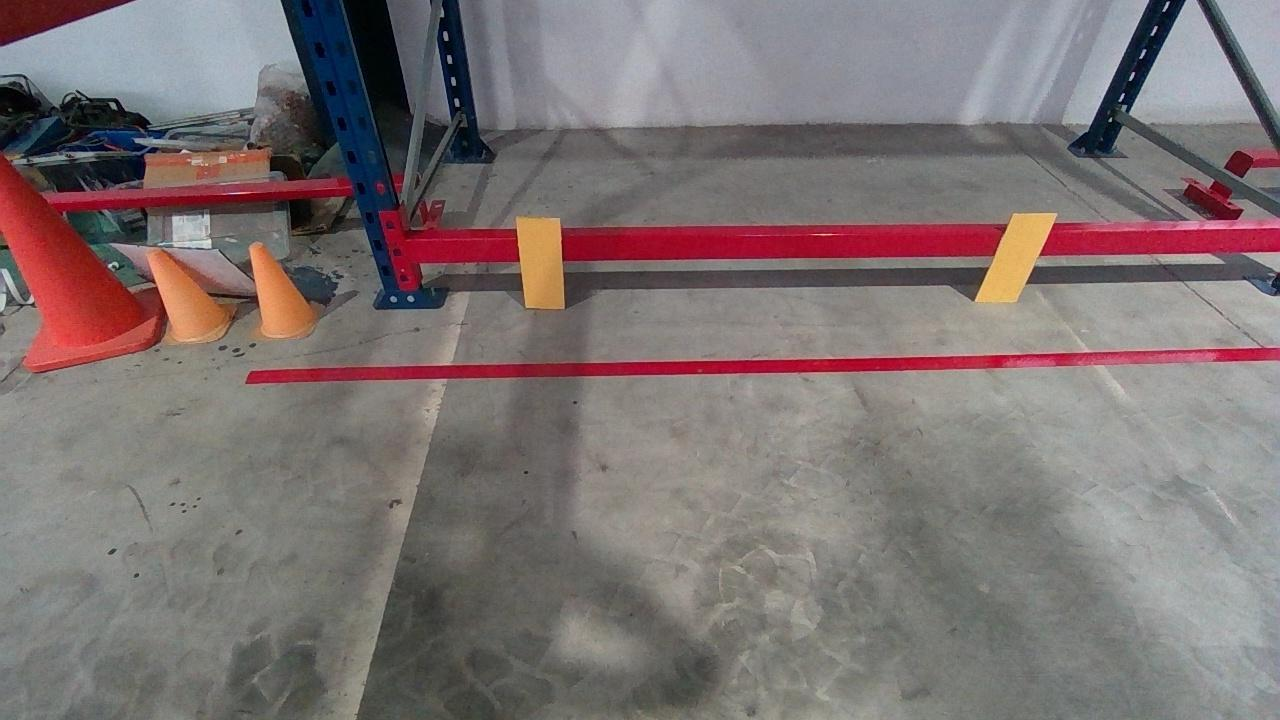h_rack: (413, 231, 1277, 263)
orange_strip: (974, 212, 1059, 303), (515, 216, 565, 307)
red_line: (245, 348, 1276, 380)
